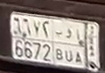2: (42, 20, 52, 63)
6: (13, 17, 23, 58), (23, 18, 33, 59)
7: (33, 20, 42, 60)
A: (74, 28, 83, 65)
B: (54, 30, 65, 61)
U: (64, 28, 74, 64)
